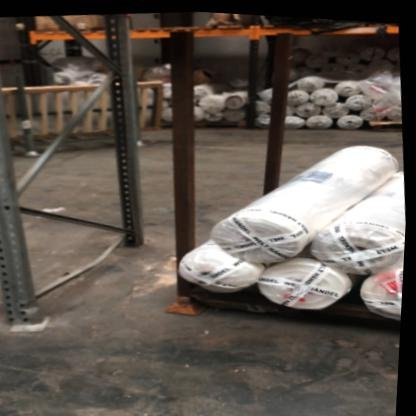vertical_damage: (1, 276, 53, 335)
